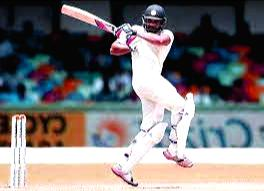batsman: (94, 7, 210, 190)
